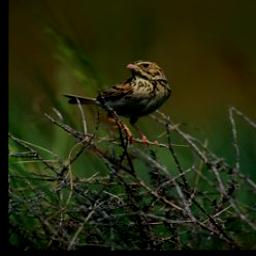Sparrow: (60, 59, 180, 153)
